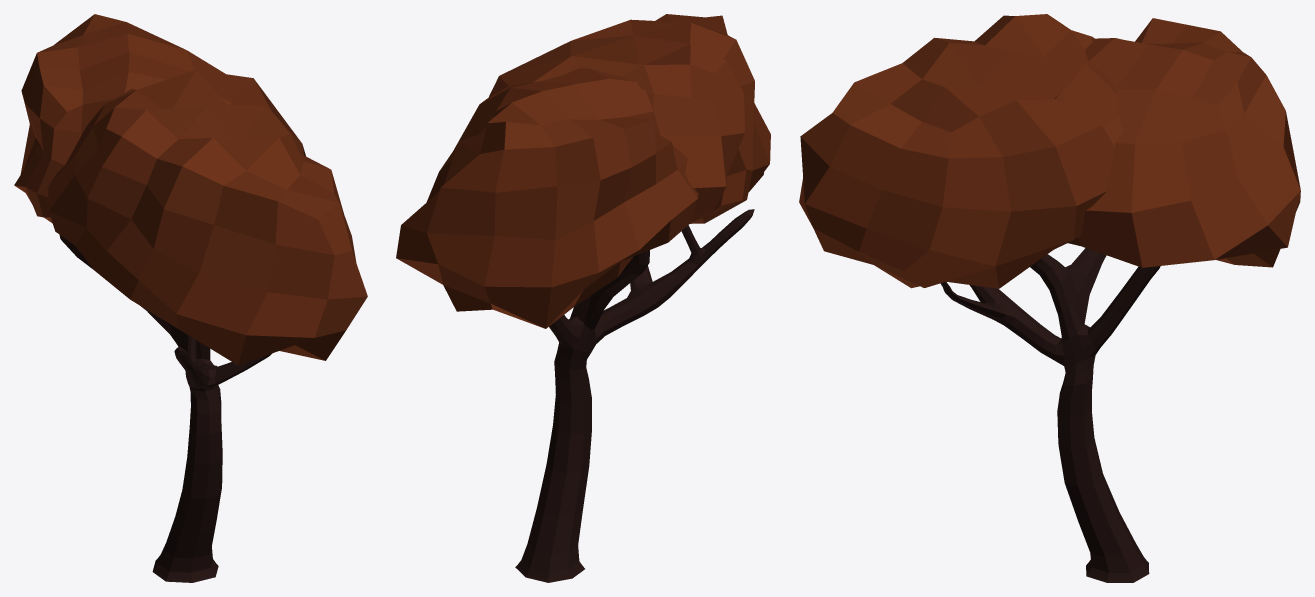
File: CommonTree_Autumn_5.obj
3 renders of one model, left to right at view 1: azimuth 30°, elevation 25°; view 2: azimuth 150°, elevation 25°; view 3: azimuth 270°, elevation 25°, orthographic. The views are drawn at different scales.
Visible parts, largest first — view 1: CommonTree_Autumn_5_Cube.139; view 2: CommonTree_Autumn_5_Cube.139; view 3: CommonTree_Autumn_5_Cube.139.
Boxes of the visible parts, bbox=[...] form: CommonTree_Autumn_5_Cube.139: bbox=[14, 14, 367, 582]; CommonTree_Autumn_5_Cube.139: bbox=[396, 14, 770, 582]; CommonTree_Autumn_5_Cube.139: bbox=[799, 14, 1300, 582].
Size of the model in its own units: 1.29 by 2.53 by 2.25.
